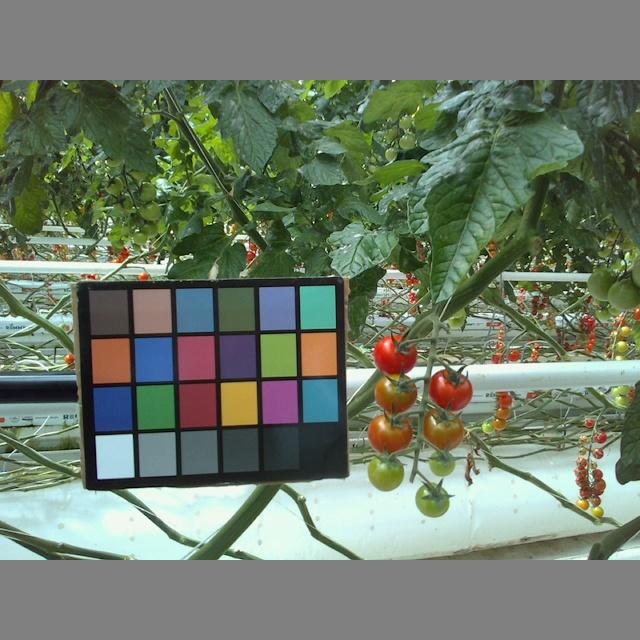green: (583, 267, 620, 302), (366, 456, 404, 489), (415, 481, 449, 516), (608, 279, 640, 311), (431, 450, 454, 474)
pink: (367, 414, 414, 457), (422, 411, 463, 453), (373, 374, 417, 413)
red: (371, 335, 418, 374), (427, 373, 473, 409)
